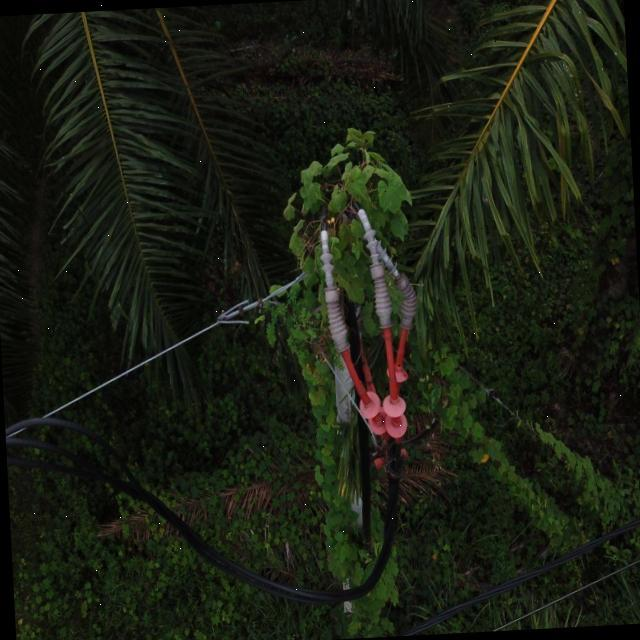critical vegetation: (270, 121, 432, 640), (435, 336, 640, 579)
